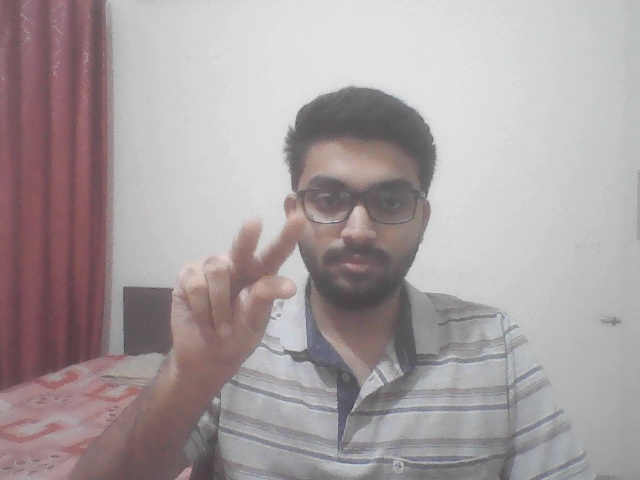no: (154, 192, 338, 387)
